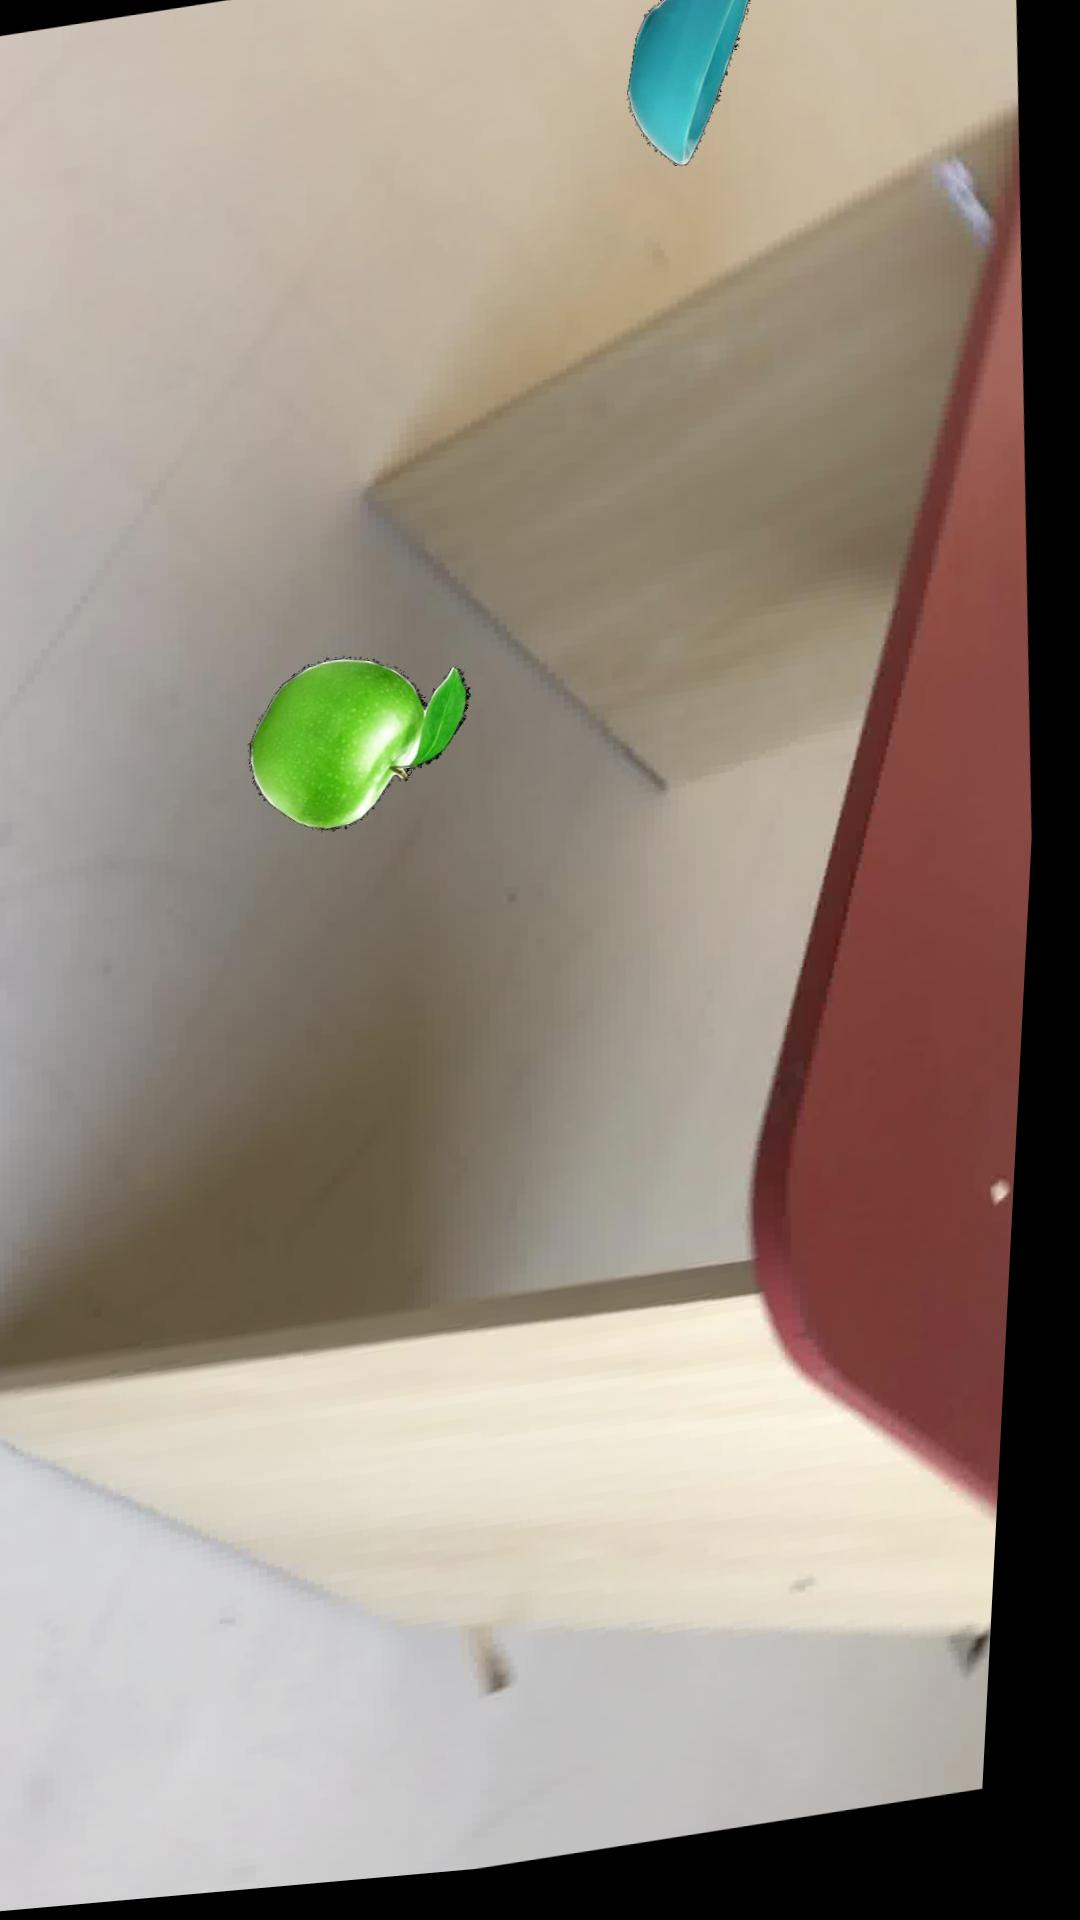bowl: (626, 0, 749, 177)
green apple: (255, 663, 476, 835)
